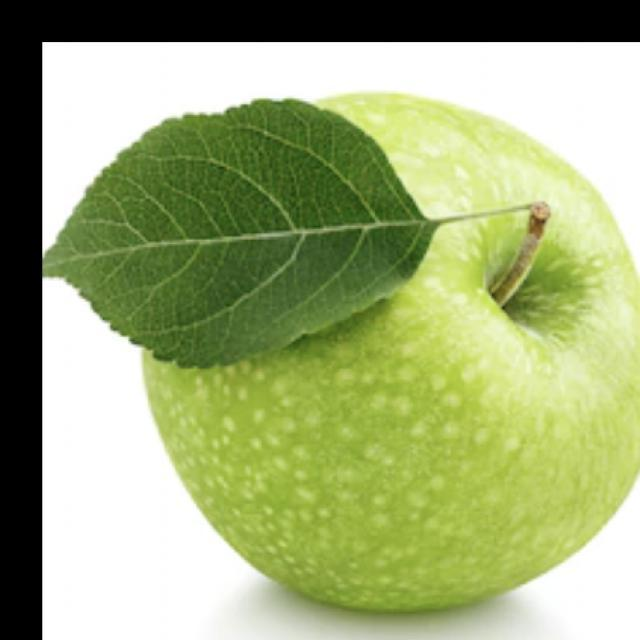Fresh Apple: (102, 86, 640, 608)
